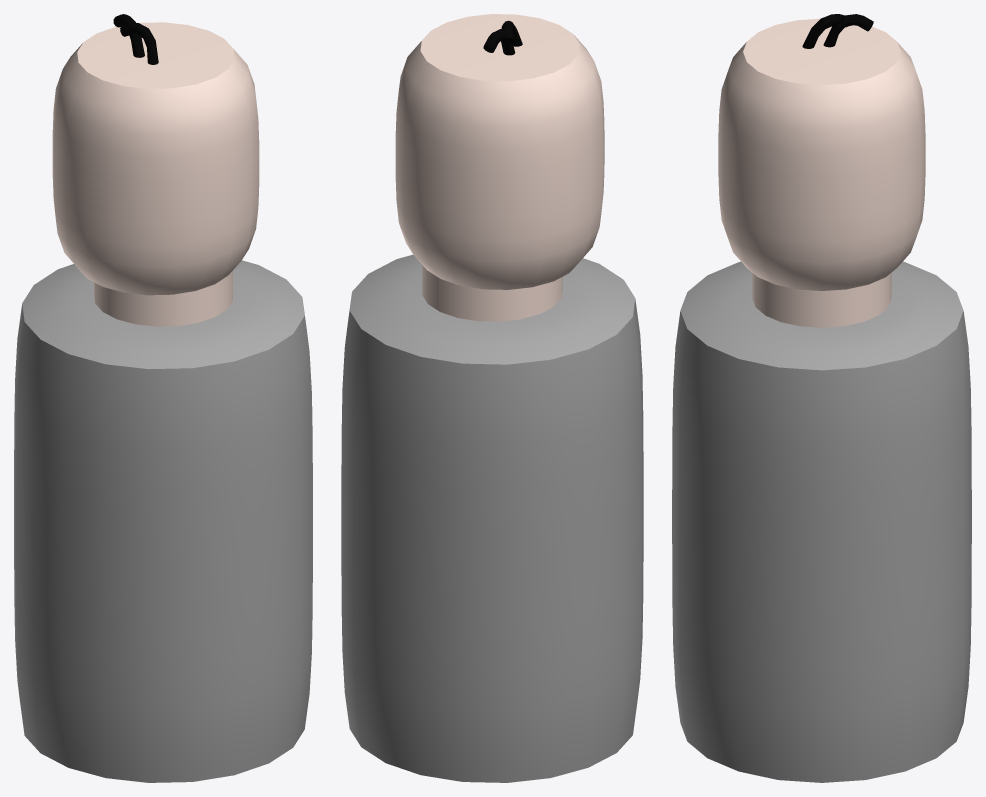
Rendered from hair5.fbx.
3 renders of one model, left to right at view 1: azimuth 30°, elevation 25°; view 2: azimuth 150°, elevation 25°; view 3: azimuth 270°, elevation 25°, orthographic.
Parts seen in each view (by area): view 1: pCylinder2, pCylinder1, pCylinder3, pCylinder14; view 2: pCylinder2, pCylinder1, pCylinder3; view 3: pCylinder2, pCylinder1, pCylinder3, pCylinder13, pCylinder14.
Part boxes in pixels (x1,y1,x2,y2): pCylinder2: (14, 260, 312, 782); pCylinder1: (52, 22, 259, 295); pCylinder3: (94, 271, 232, 326); pCylinder14: (120, 22, 158, 64); pCylinder2: (341, 254, 643, 782); pCylinder1: (395, 14, 604, 289); pCylinder3: (422, 265, 562, 321); pCylinder2: (672, 261, 971, 782); pCylinder1: (718, 18, 925, 290); pCylinder3: (752, 273, 891, 327); pCylinder13: (823, 14, 873, 47); pCylinder14: (802, 14, 846, 48).
Size of the model in its own units: 2.03 by 5.32 by 2.03.
